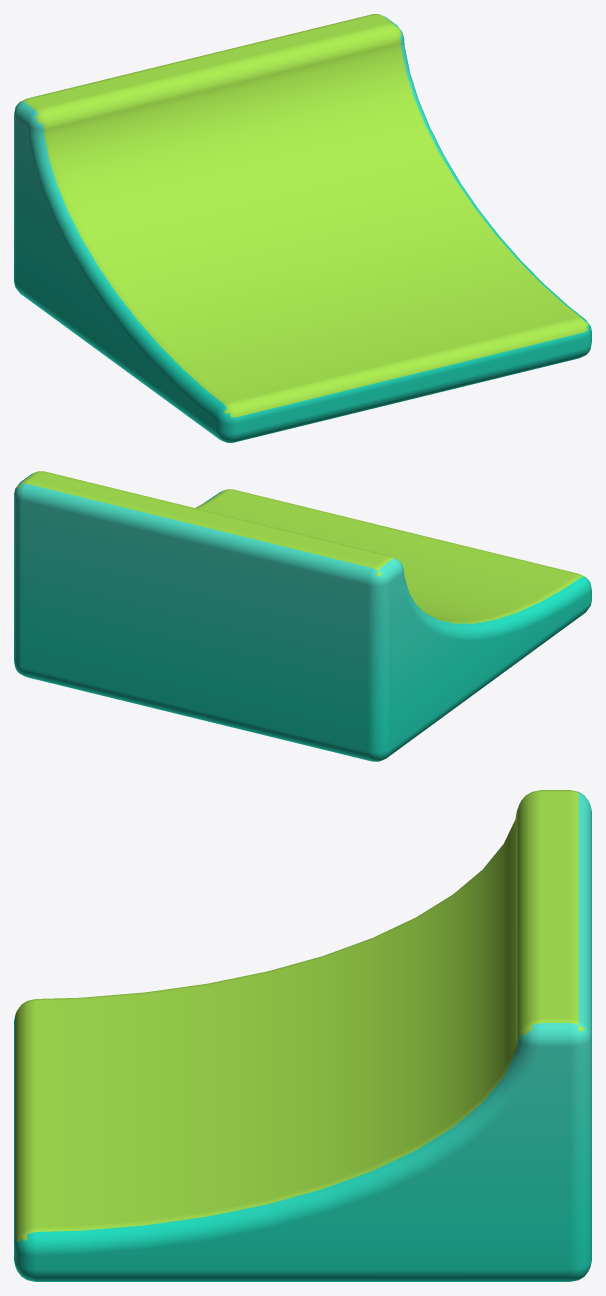
The model's file is curved_ramp_4x4_h2.glb.
The picture shows the model from 3 angles, top to bottom: view 1: azimuth 30°, elevation 25°; view 2: azimuth 150°, elevation 25°; view 3: azimuth 270°, elevation 25°; orthographic projection. The views are drawn at different scales.
Parts seen in each view (by area): view 1: curved_ramp_4x4_h2; view 2: curved_ramp_4x4_h2; view 3: curved_ramp_4x4_h2.
Part boxes in pixels (left/top/right/bottom): curved_ramp_4x4_h2: left=14, top=14, right=591, bottom=442; curved_ramp_4x4_h2: left=14, top=471, right=591, bottom=761; curved_ramp_4x4_h2: left=14, top=790, right=591, bottom=1281.
Size of the model in its own units: 4 by 2 by 4.
1 material, 1 textured.
